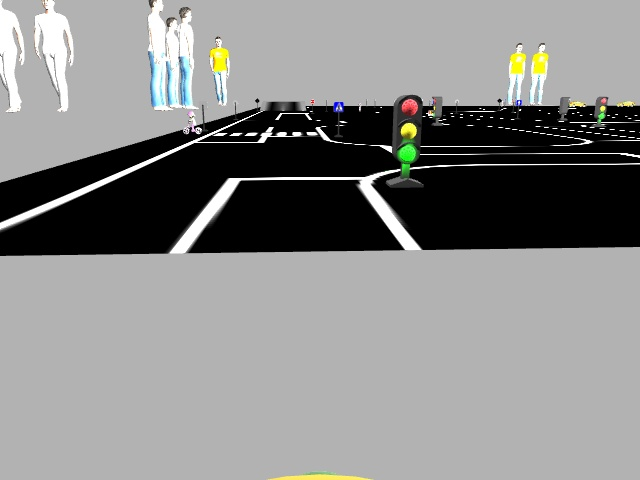Crosswalk: (333, 101, 342, 112)
Pedestrian: (183, 110, 202, 134)
TrafficLight: (391, 94, 422, 164), (594, 95, 607, 118)
